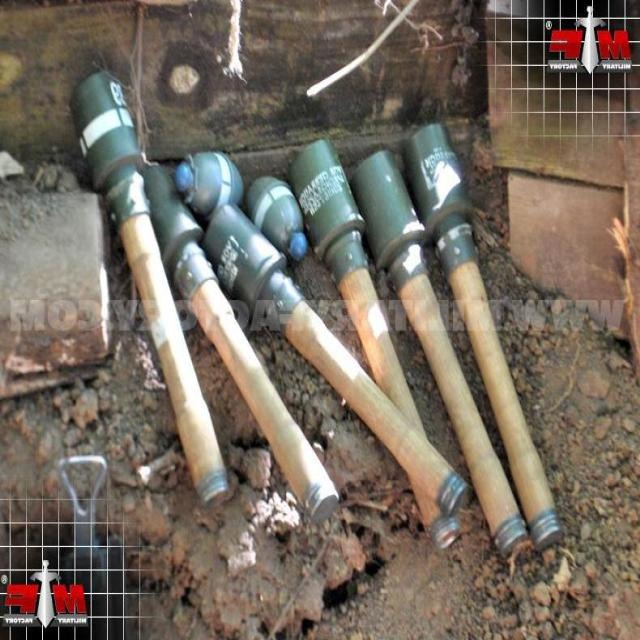grenade: (72, 72, 151, 232), (204, 200, 299, 330), (290, 139, 369, 283), (352, 150, 428, 297), (411, 124, 478, 284), (141, 164, 217, 297), (245, 174, 310, 267), (177, 147, 245, 219)
